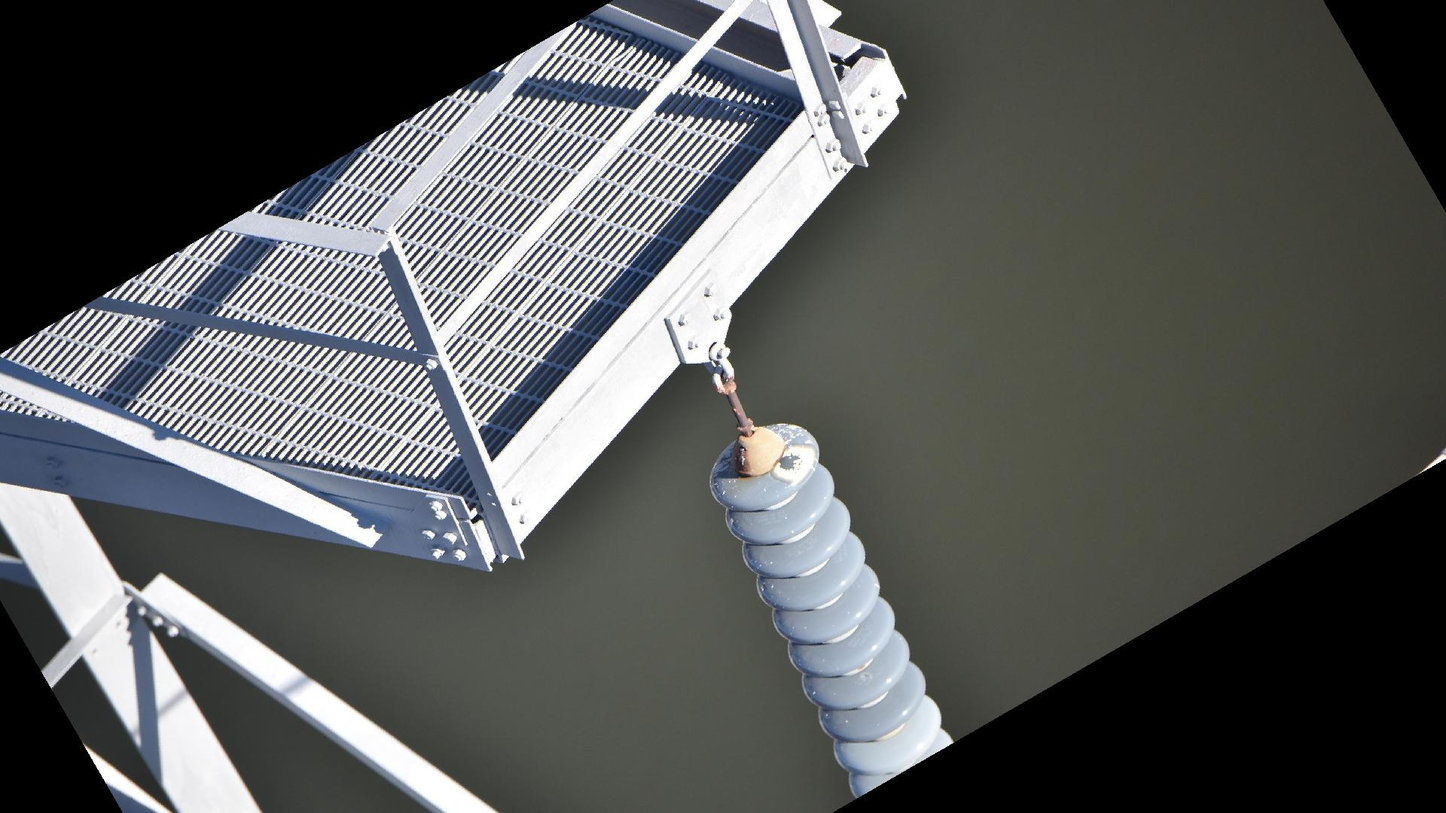insulator: (703, 418, 959, 800)
insulator_flashover: (768, 440, 819, 486)
